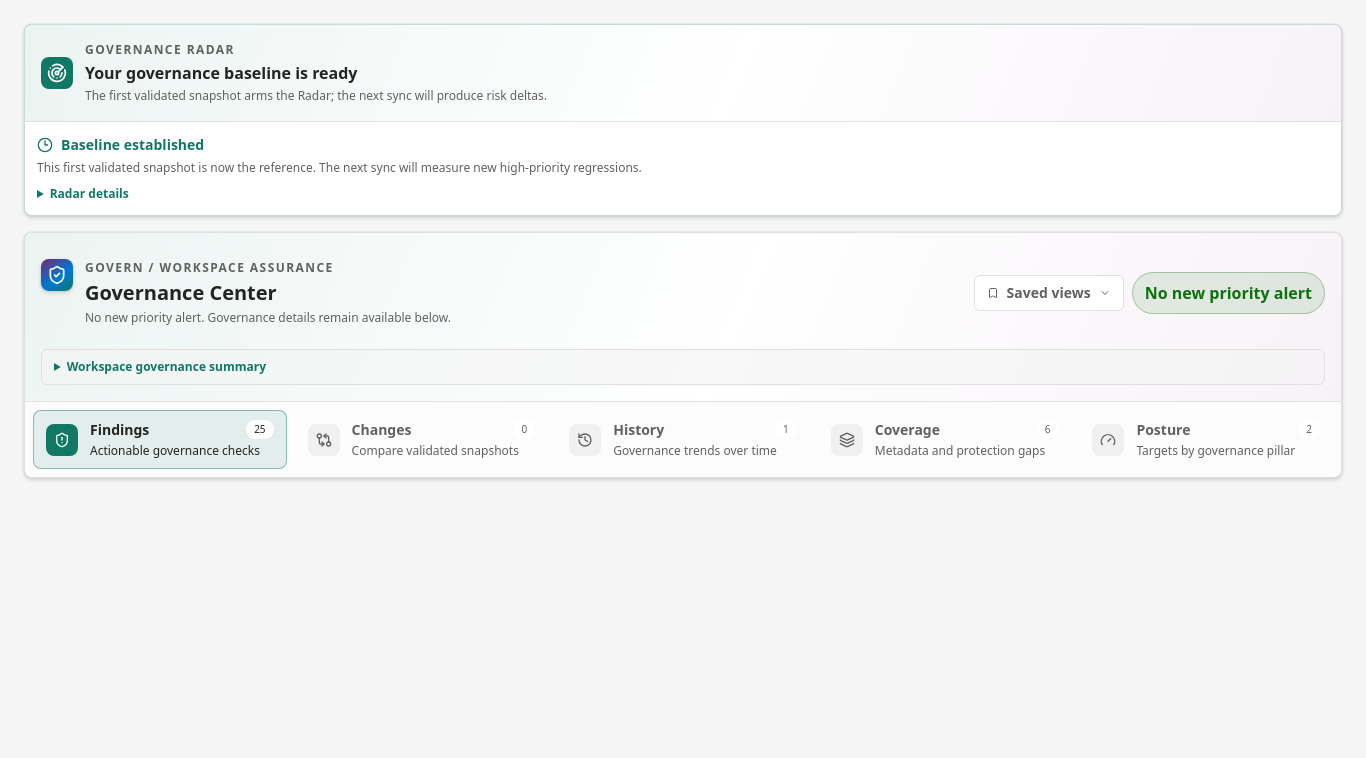
GovernanceCenterView › saves a personal governance view in preview
Click the button "Saved views" at (1049, 293), box [974, 275, 1124, 311]
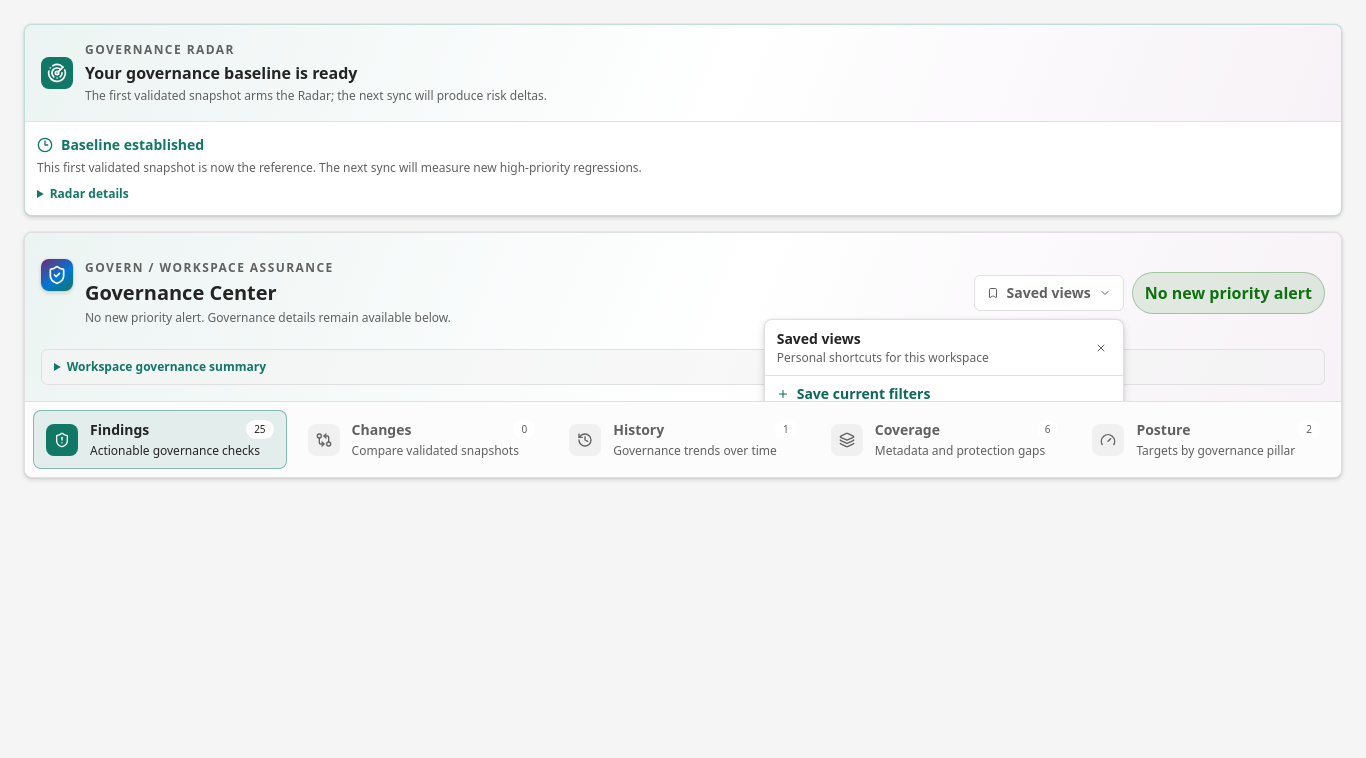
Click the button "Save current filters" at (864, 393), box [765, 376, 1123, 412]
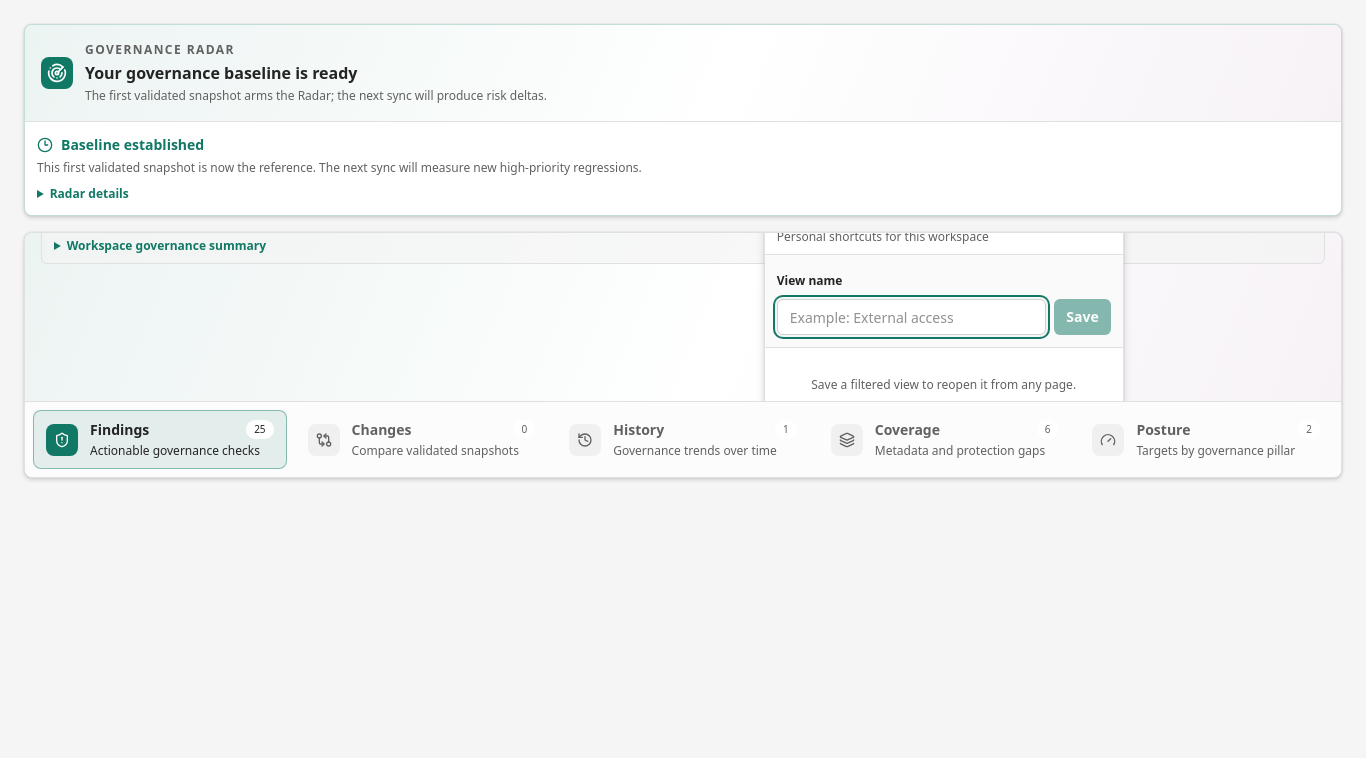
Type "Priority findings" into the field labelled "View name" at (912, 317), box [777, 299, 1046, 335]
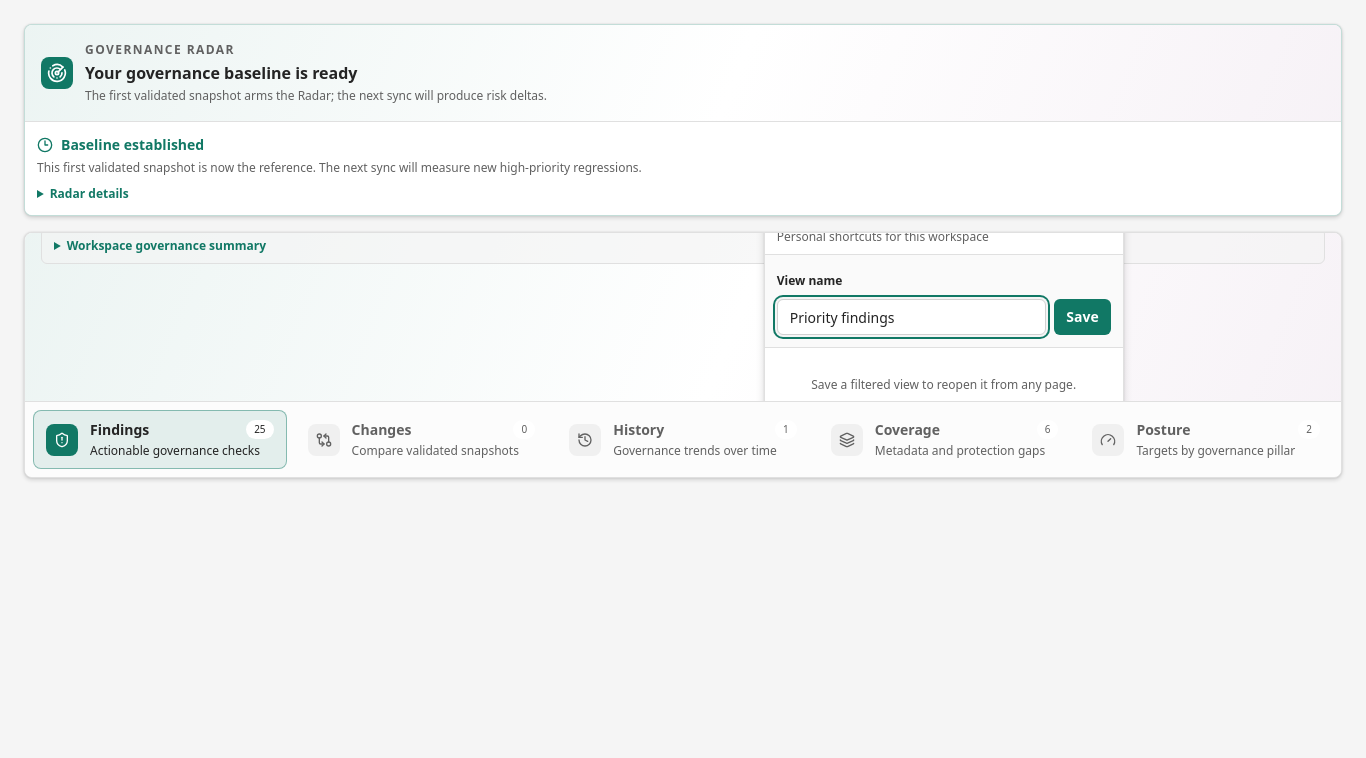
Click the button "Save" at (1082, 317), box [1054, 299, 1111, 335]
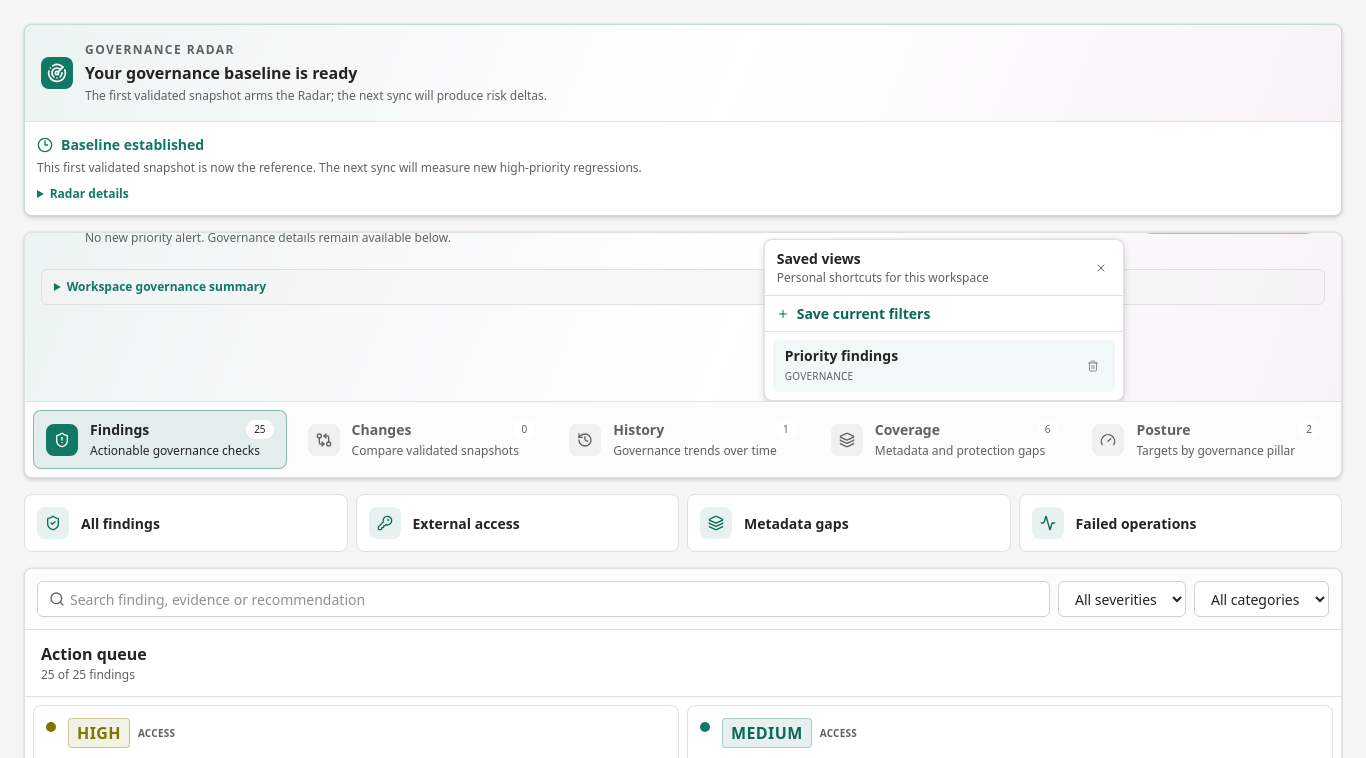
Check: the text "Priority findings" is shown, box [785, 346, 898, 365]
